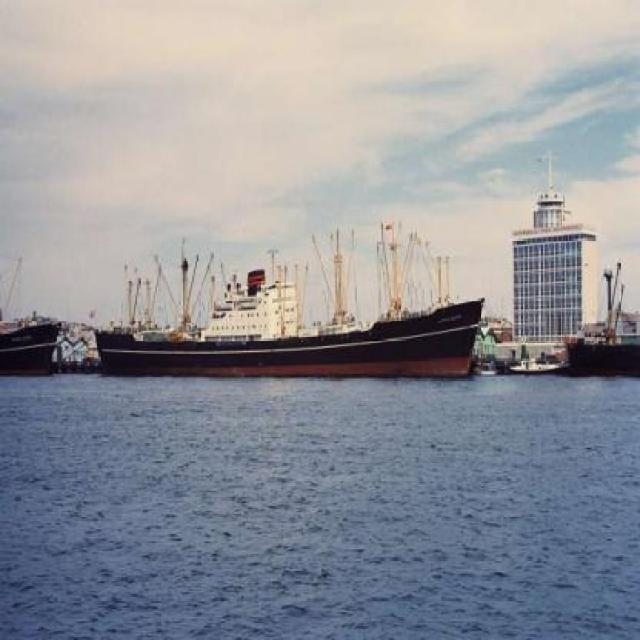ship: (90, 230, 484, 375)
